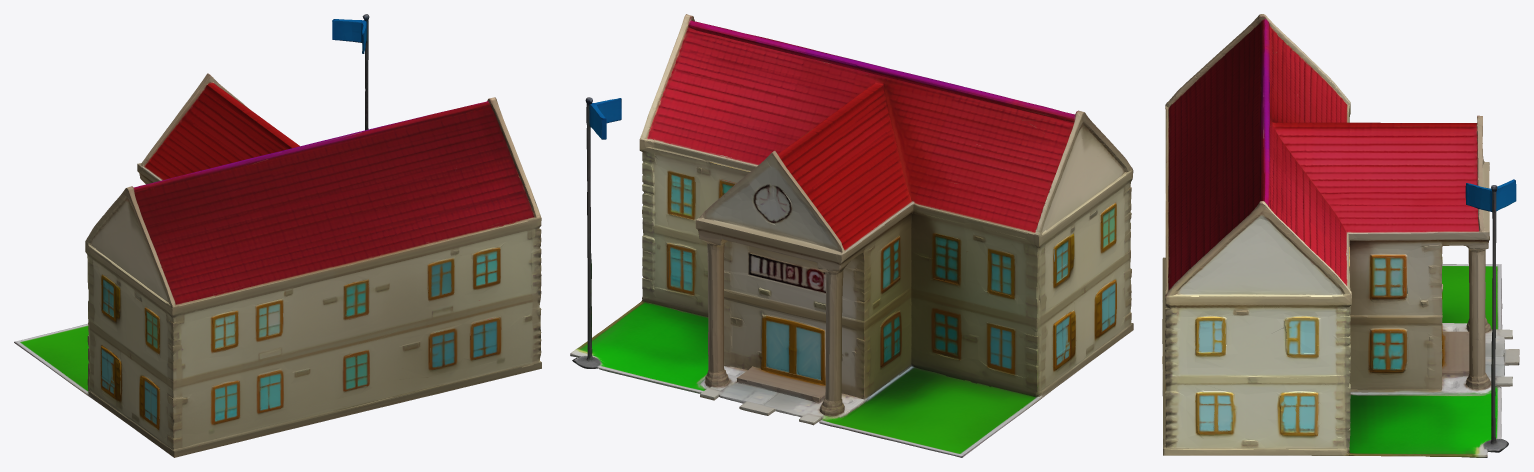
The model's file is school_1.glb.
3 renders of one model, left to right at view 1: azimuth 30°, elevation 25°; view 2: azimuth 150°, elevation 25°; view 3: azimuth 270°, elevation 25°, orthographic. The views are drawn at different scales.
Visible parts, largest first — view 1: world; view 2: world; view 3: world.
Boxes of the visible parts, x1=… form: world: x1=14, y1=14, x2=541, y2=457; world: x1=570, y1=14, x2=1133, y2=457; world: x1=1162, y1=14, x2=1519, y2=457.
Size of the model in its own units: 1 by 0.6367 by 0.7873.
Materials: 1 (1 with a texture image).
